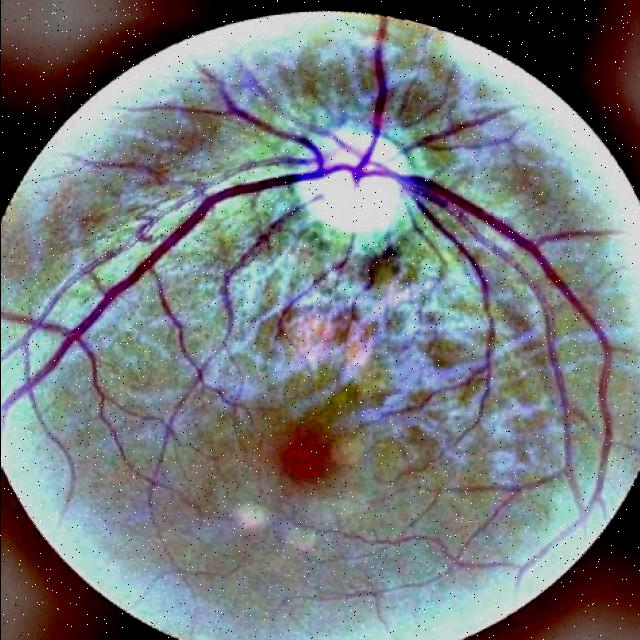Macula: (278, 425, 335, 486)
Nerves: (0, 23, 612, 473), (217, 196, 321, 346), (154, 279, 215, 446)
Optic Disk: (289, 113, 406, 235)
